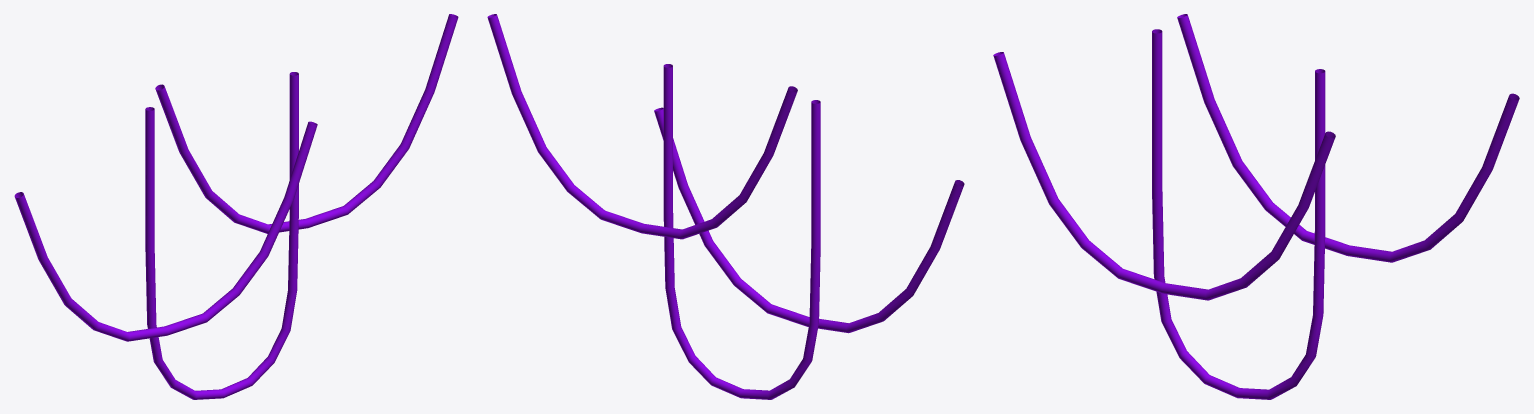
The model's file is GDT_ForegroundWire2.fbx.
3 views of the same model, side by side, from view 1: azimuth 30°, elevation 25°; view 2: azimuth 150°, elevation 25°; view 3: azimuth 330°, elevation 25° (orthographic). The views are drawn at different scales.
Parts seen in each view (by area): view 1: polySurface21; view 2: polySurface21; view 3: polySurface21.
Part boxes in pixels (x1,y1,x2,y2): polySurface21: [14, 14, 458, 399]; polySurface21: [487, 14, 964, 399]; polySurface21: [993, 14, 1519, 399].
Size of the model in its own units: 77.92 by 52.73 by 4.72.
